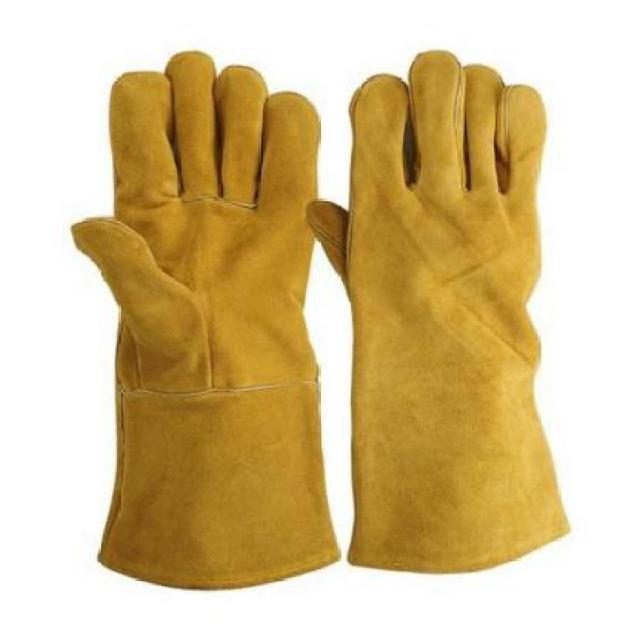gloved_hand: (65, 58, 344, 580), (303, 55, 575, 583)
